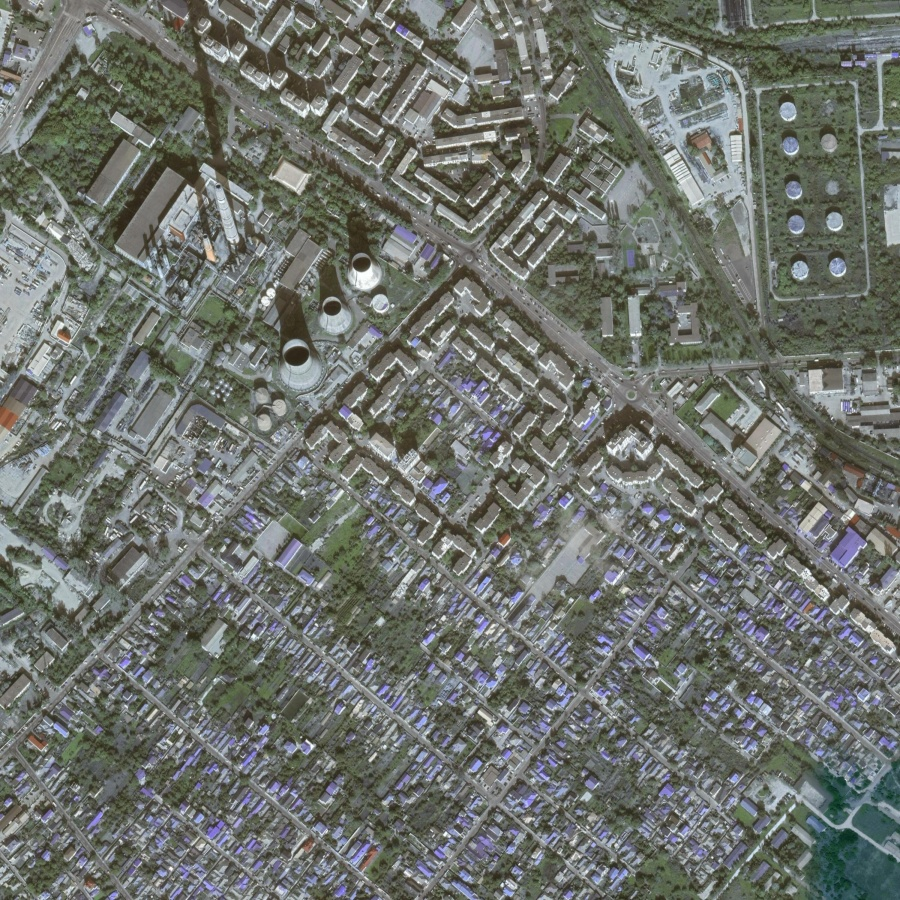PowerPlant: (122, 74, 408, 418)
